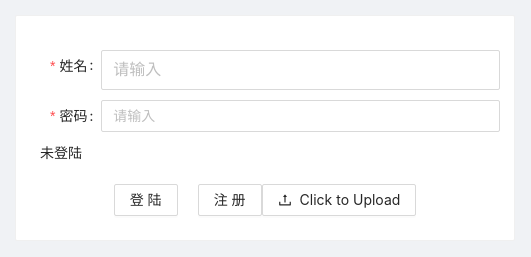
it: test Login page › handles server ok1
This screenshot has width=531, height=257.
Click the button "注 册": coordinates (230, 200) [198,184,262,216]
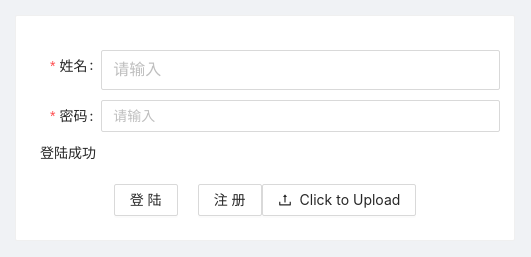
Expected: the text "登陆成功" is shown, [40,144,96,161]
